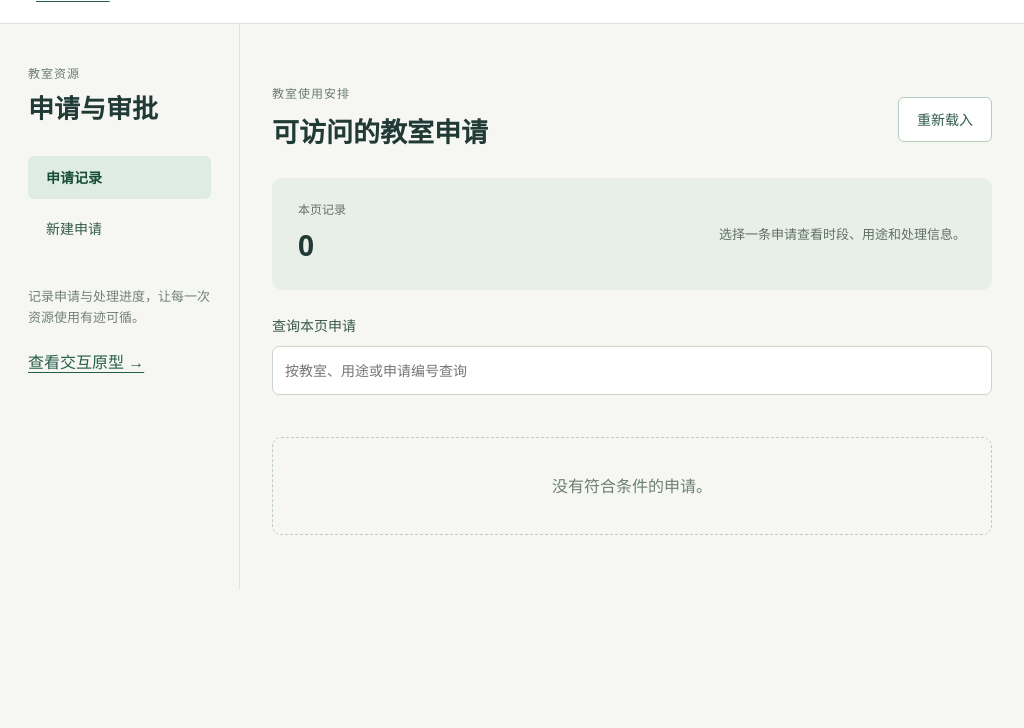
paged authorized room picker › keeps application form drafts while searches clear the selected room and block submission
Click the button "新建申请" at coordinates (120, 228), box [28,207,211,250]
(page scrolled)
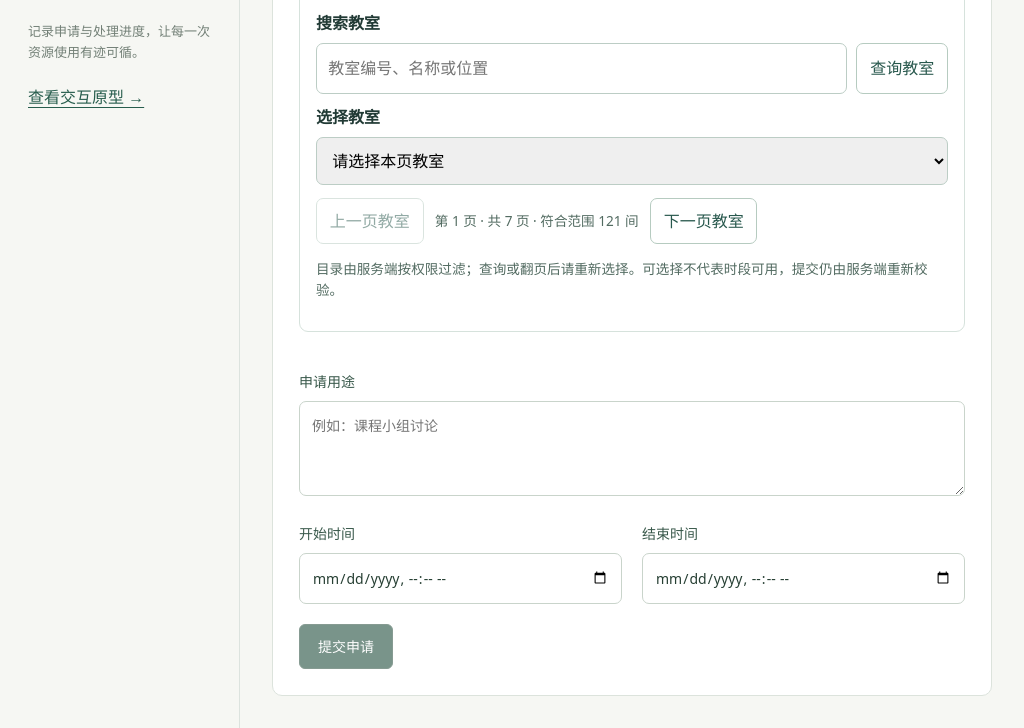
Type "保留的用途" into the text box with id "m2-purpose" at coordinates (632, 449), box [299,401,965,496]
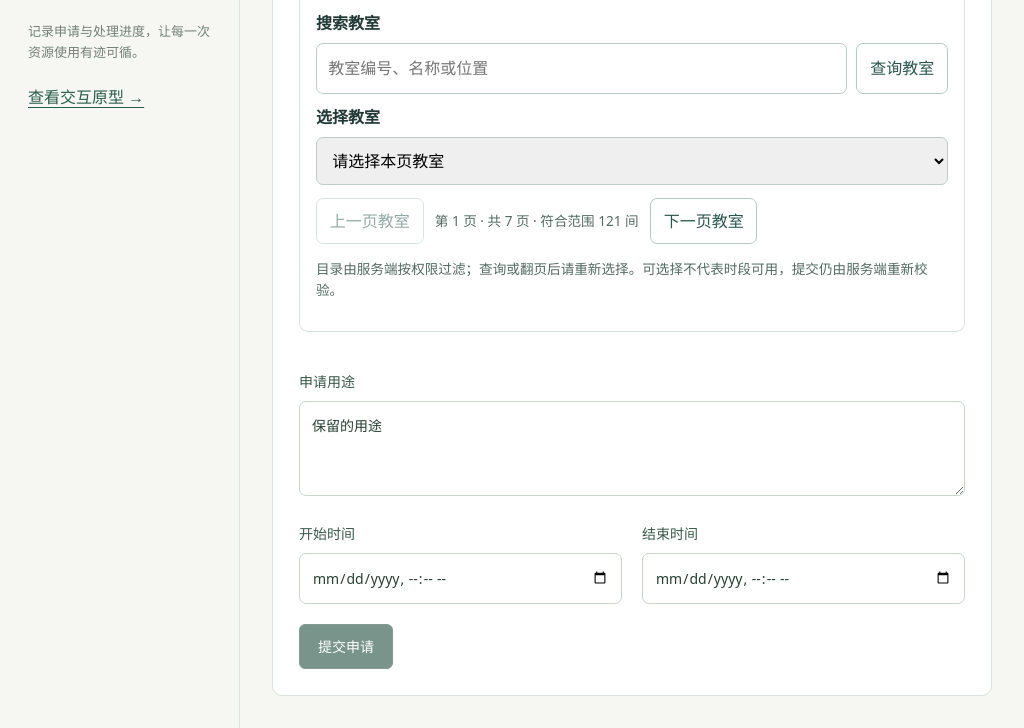
Select "SYN-ROOM · 合成教室 · 示例楼" in the dropdown with id "m2-room" at coordinates (632, 161), box [316,137,948,185]
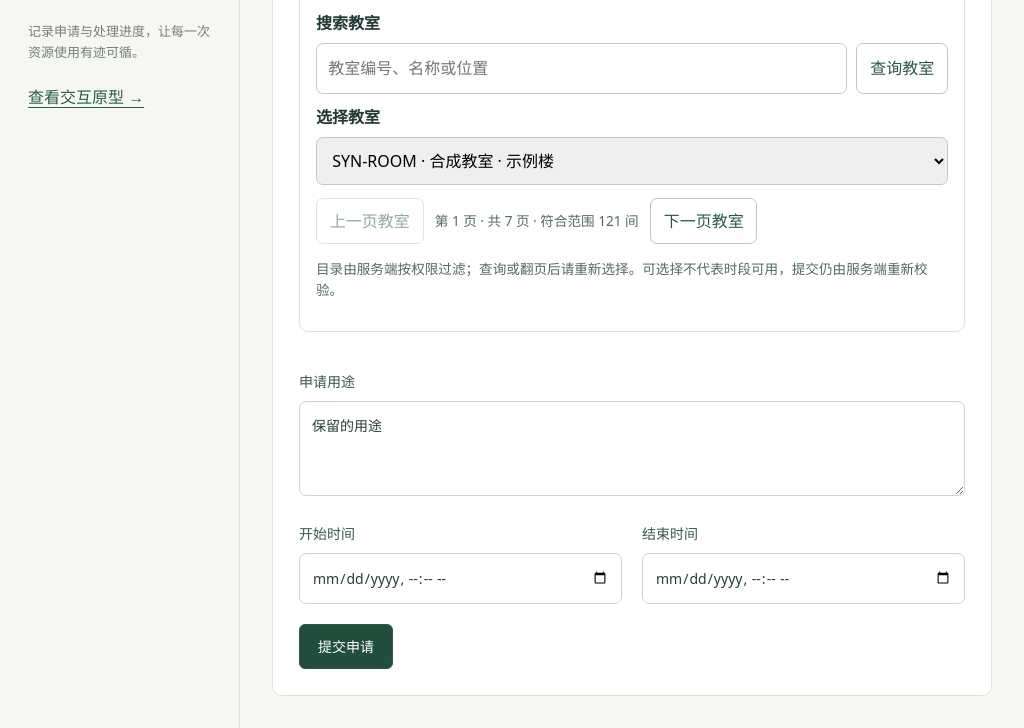
Expected: the submit button is enabled, [299,624,393,669]
Click the button "查询教室" at coordinates (902, 68), box [856,43,948,94]
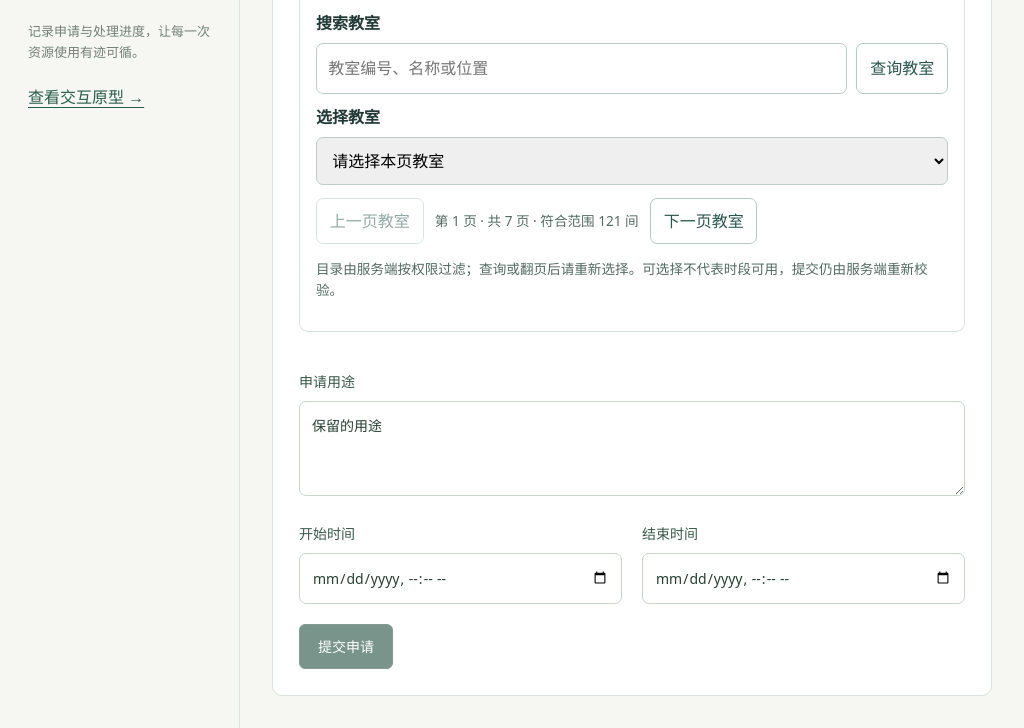
Expected: the submit button is disabled, [299,624,393,669]
